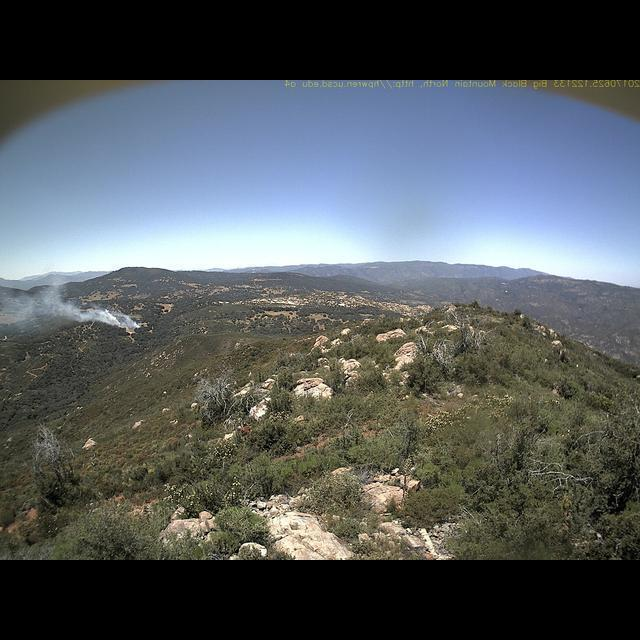Smoke: (3, 273, 147, 333)
